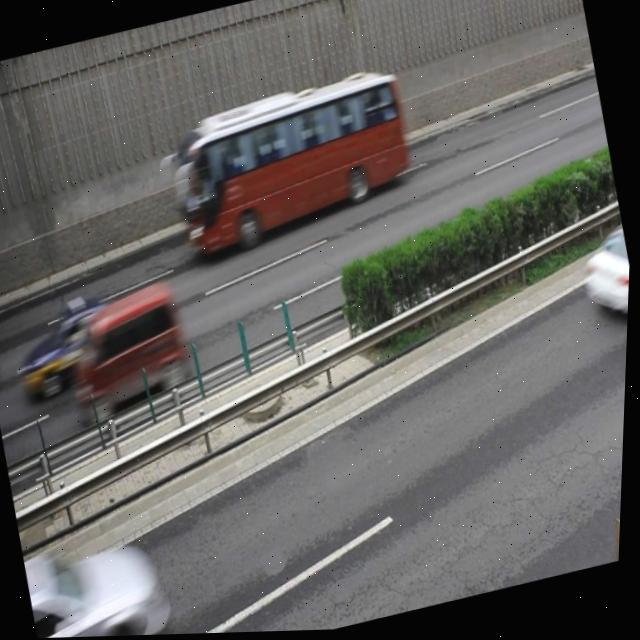car: (24, 528, 179, 639), (11, 284, 143, 402), (577, 235, 633, 319)
truck: (62, 281, 198, 419)
van: (161, 66, 424, 266)
